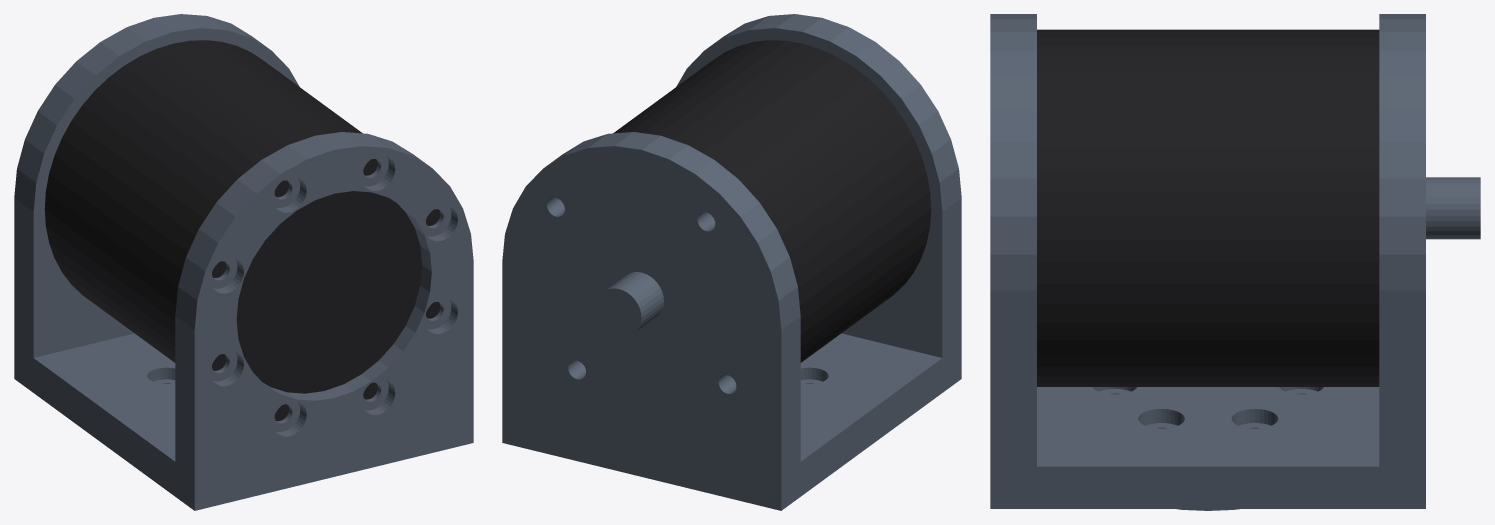
File: neck_yaw.dae
3 renders of one model, left to right at view 1: azimuth 30°, elevation 25°; view 2: azimuth 150°, elevation 25°; view 3: azimuth 270°, elevation 25°, orthographic. The views are drawn at different scales.
Parts seen in each view (by area): view 1: neck_yaw-printed, neck_yaw-motor; view 2: neck_yaw-printed, neck_yaw-motor; view 3: neck_yaw-motor, neck_yaw-printed.
Part boxes in pixels (x1,y1,x2,y2): neck_yaw-printed: (14,14,473,510); neck_yaw-motor: (44,40,440,421); neck_yaw-printed: (502,14,961,510); neck_yaw-motor: (613,40,931,362); neck_yaw-motor: (1037,29,1379,386); neck_yaw-printed: (990,14,1480,510).
Size of the model in its own units: 0.05 by 0.063 by 0.06.
